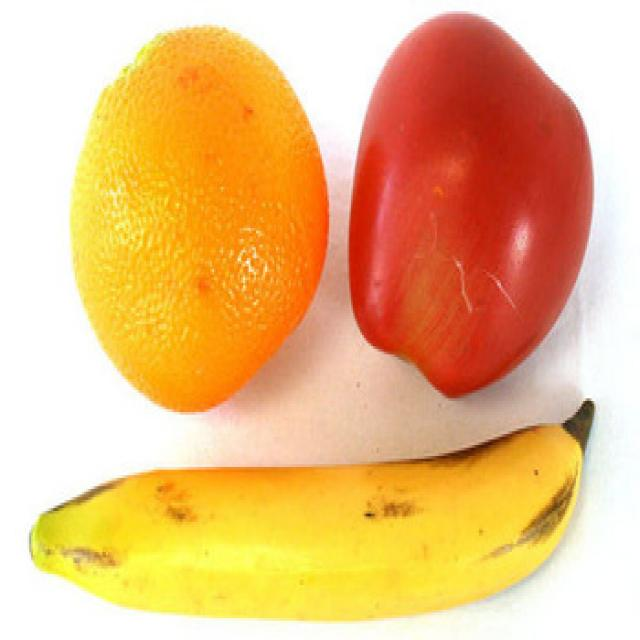apple: (347, 8, 600, 402)
banana: (32, 402, 597, 629)
orange: (68, 21, 330, 416)
